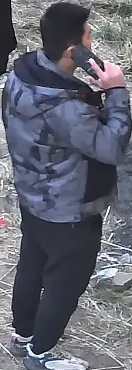phone: (39, 2, 131, 167)
